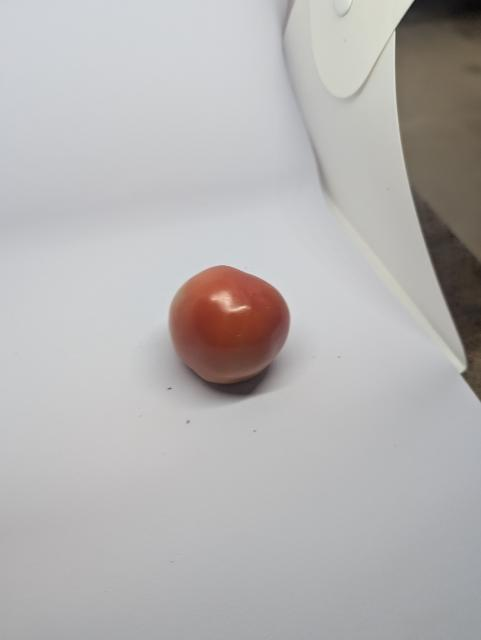red: (165, 264, 293, 387)
